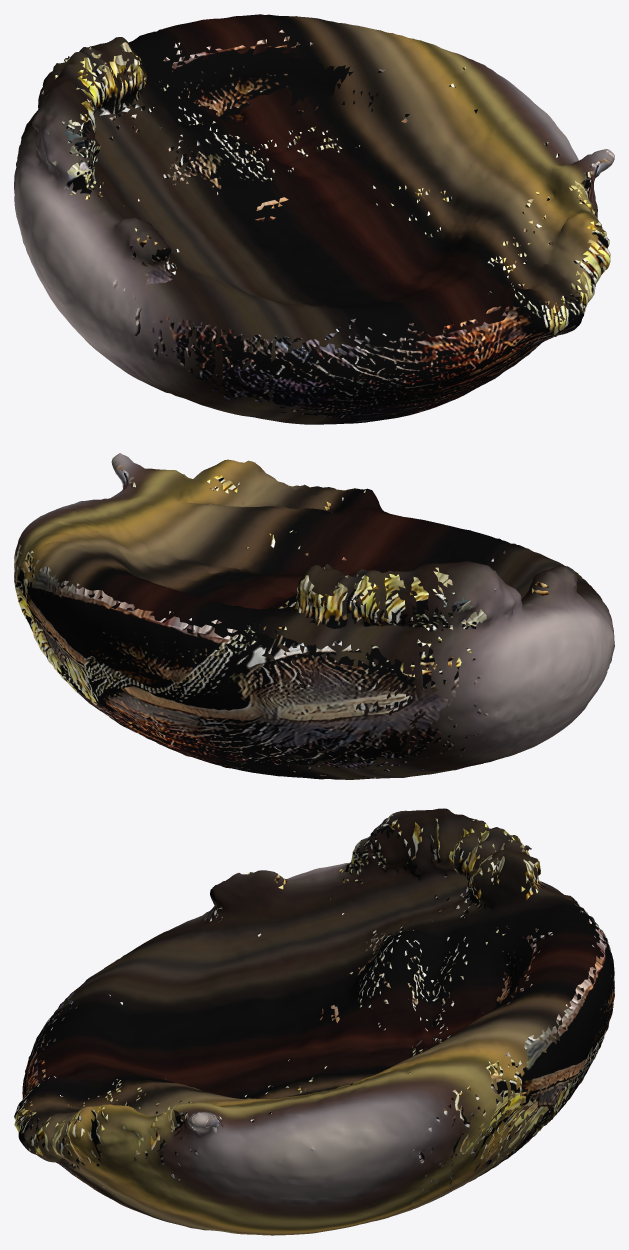
Rendered from kfl-2237.glb.
3 renders of one model, top to bottom at view 1: azimuth 30°, elevation 25°; view 2: azimuth 150°, elevation 25°; view 3: azimuth 270°, elevation 25°, orthographic. The views are drawn at different scales.
Parts seen in each view (by area): view 1: kfl-2237; view 2: kfl-2237; view 3: kfl-2237.
Part boxes in pixels (x1,y1,x2,y2): kfl-2237: (14,14,614,424); kfl-2237: (14,453,614,779); kfl-2237: (14,808,614,1235).
Size of the model in its own units: 0.9957 by 0.5223 by 0.9799.
Materials: 4 (4 with a texture image).
